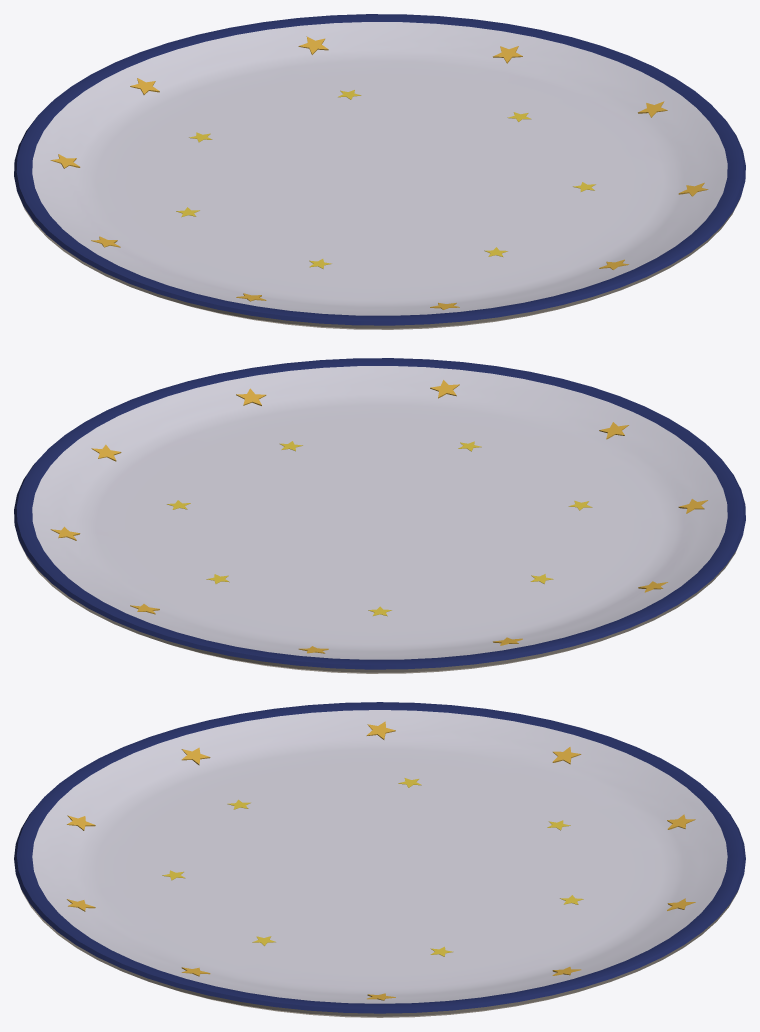
Rendered from plate_stars.glb.
The picture shows the model from 3 angles, top to bottom: view 1: azimuth 30°, elevation 25°; view 2: azimuth 150°, elevation 25°; view 3: azimuth 270°, elevation 25°; orthographic projection.
Visible parts, largest first — view 1: body; view 2: body; view 3: body.
Part boxes in pixels (bbox=[...]): body: bbox=[14, 14, 745, 329]; body: bbox=[14, 358, 745, 673]; body: bbox=[14, 702, 745, 1017].
Size of the model in its own units: 1.6 by 0.0939 by 1.6.
